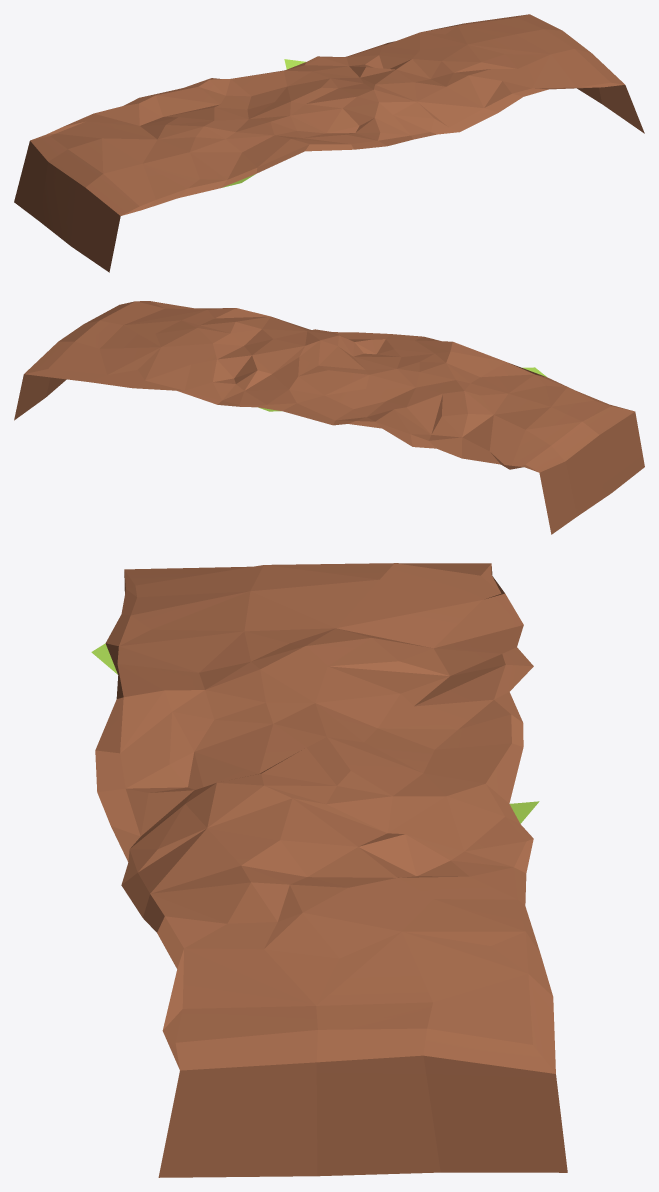
File: dirtPath.fbx
3 renders of one model, top to bottom at view 1: azimuth 30°, elevation 25°; view 2: azimuth 150°, elevation 25°; view 3: azimuth 270°, elevation 25°, orthographic. The views are drawn at different scales.
Visible parts, largest first — view 1: PP_Meadow_Path_05; view 2: PP_Meadow_Path_05; view 3: PP_Meadow_Path_05.
Boxes of the visible parts, box(x1,y1,x2,y2) form: PP_Meadow_Path_05: box(14, 14, 644, 272); PP_Meadow_Path_05: box(14, 301, 644, 534); PP_Meadow_Path_05: box(91, 563, 567, 1177).
Bounding box in the file's own units: 887 × 333 × 2268.
